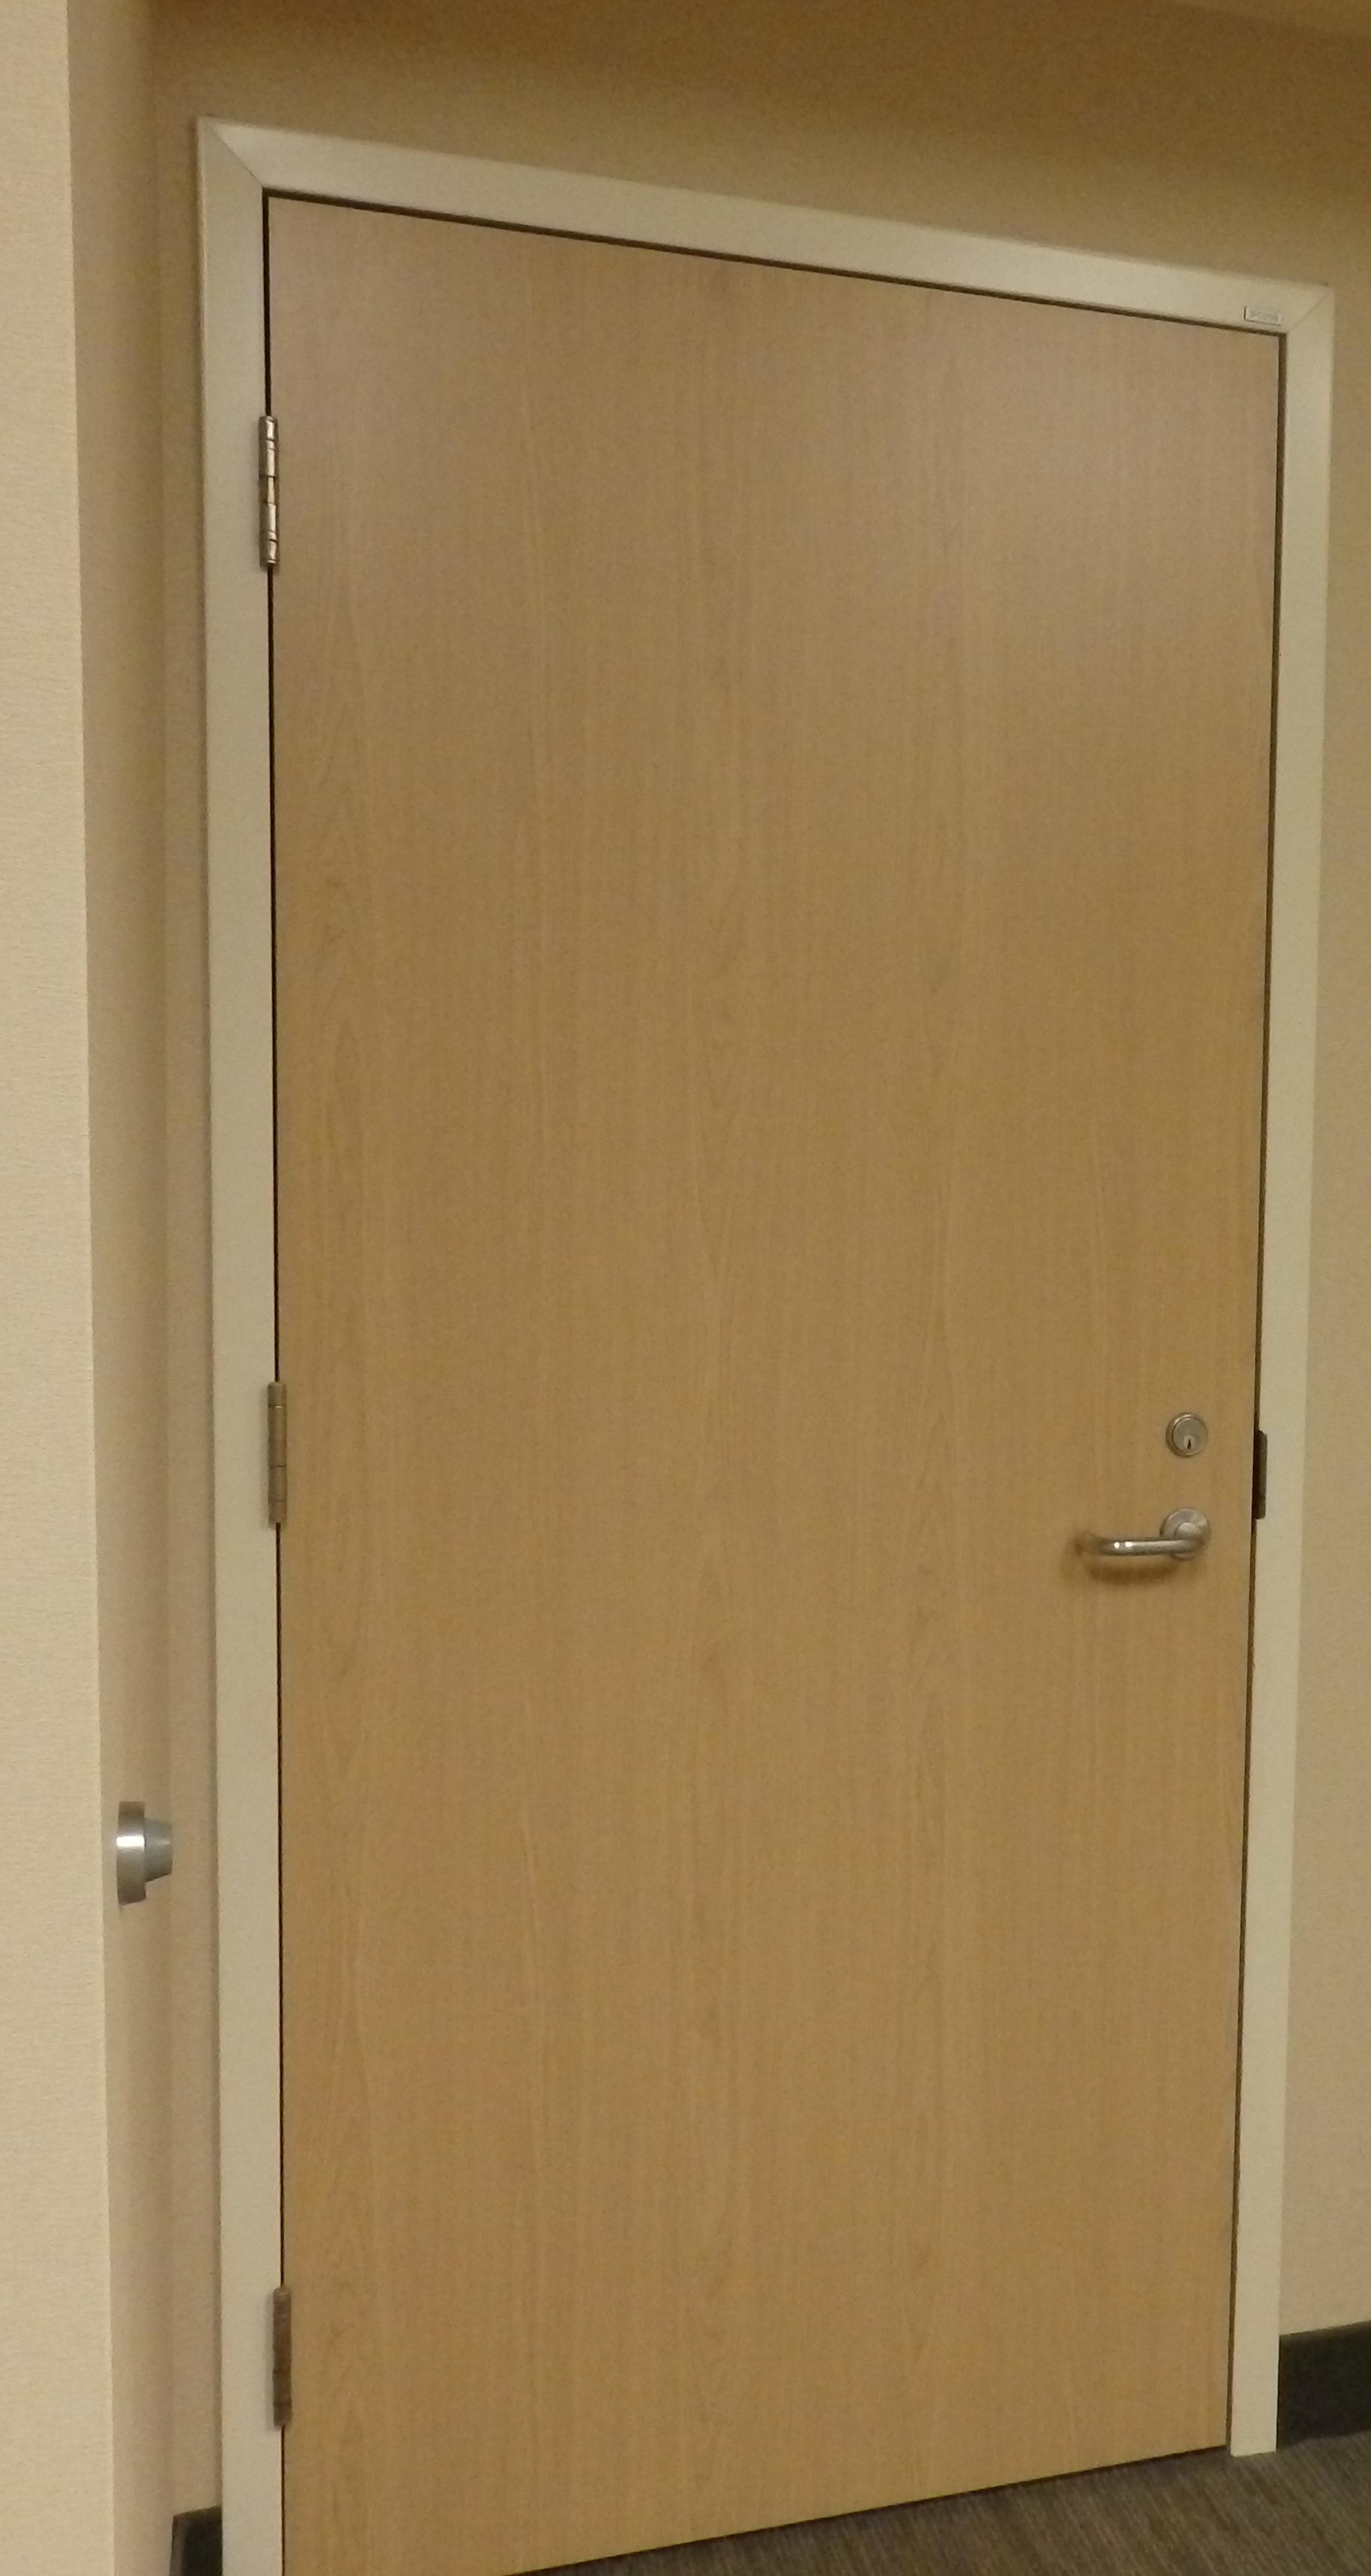door: (251, 177, 1294, 2508)
